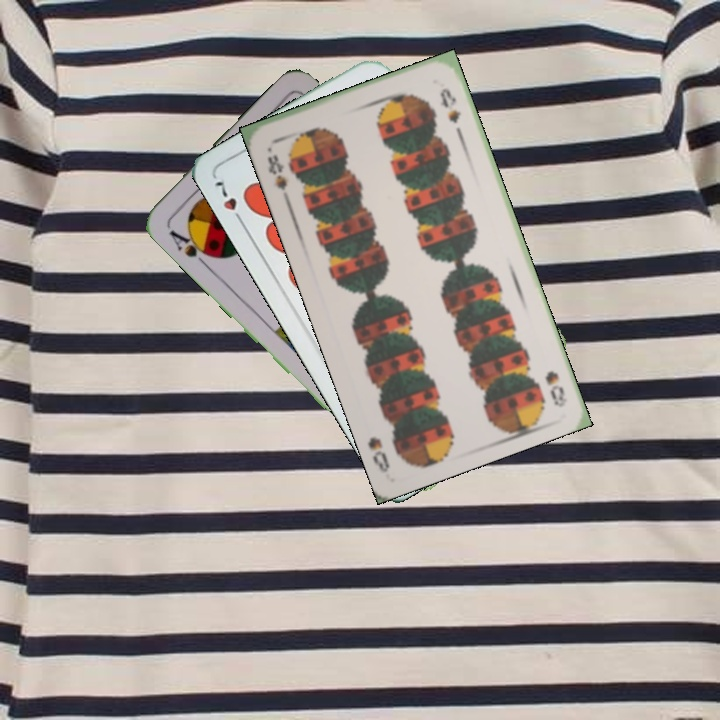H7: (211, 177, 248, 228)
S8: (263, 150, 291, 201), (541, 366, 570, 410)
SA: (165, 224, 217, 269)
